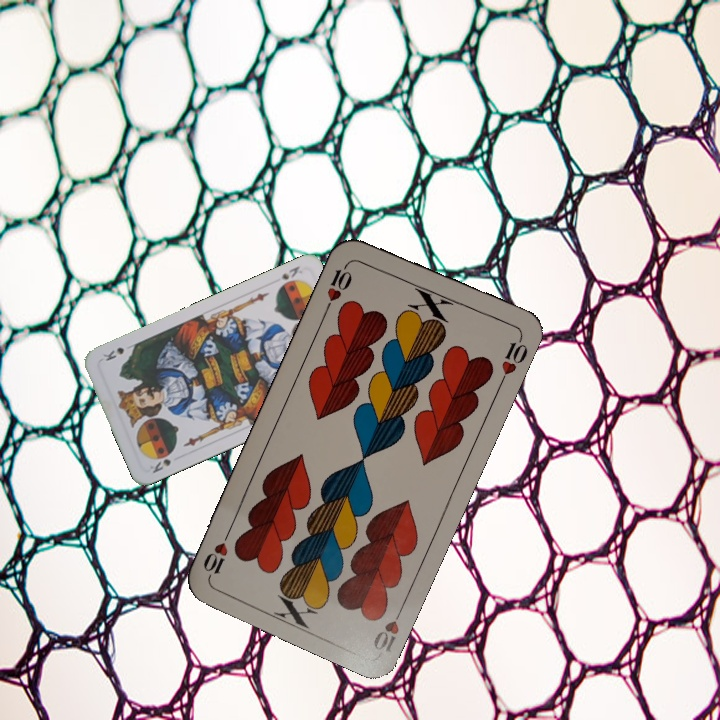H10: (369, 600, 407, 655), (321, 257, 355, 313)
SK: (277, 262, 305, 282), (148, 455, 173, 476)
